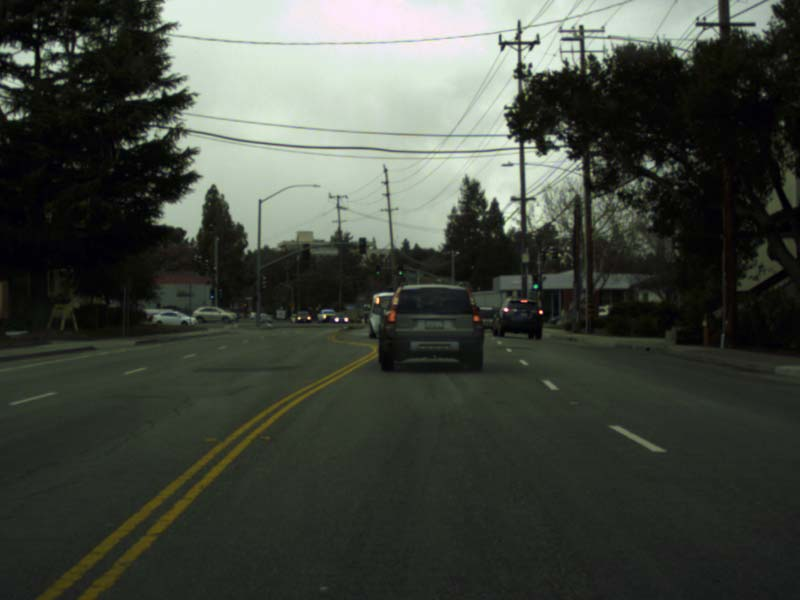Green: (531, 274, 538, 290), (209, 290, 214, 299), (375, 264, 379, 275), (398, 264, 402, 275)
